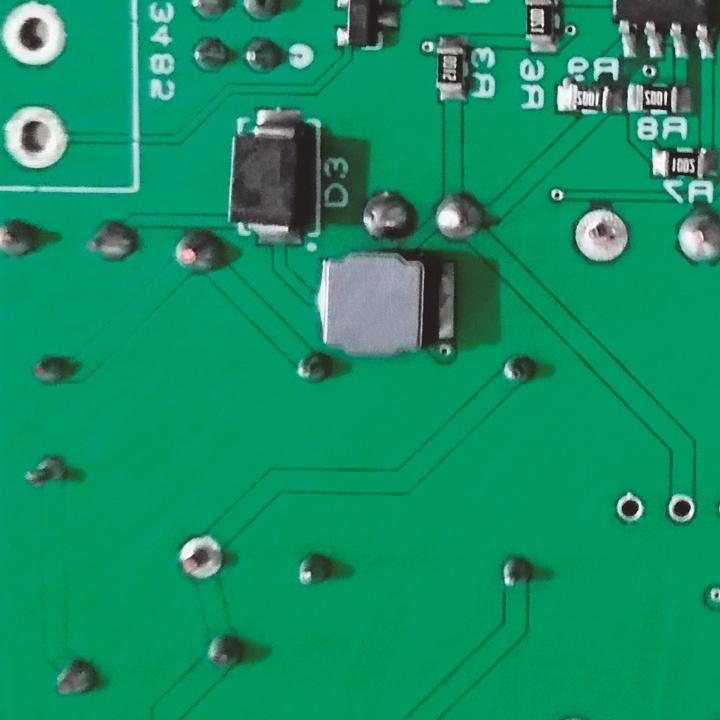F: (1, 103, 72, 175), (1, 1, 73, 72), (569, 200, 636, 269), (171, 531, 234, 585), (614, 488, 647, 532), (664, 490, 696, 526)
